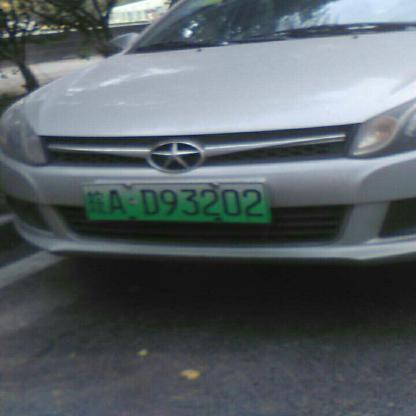lp: (81, 183, 270, 221)
